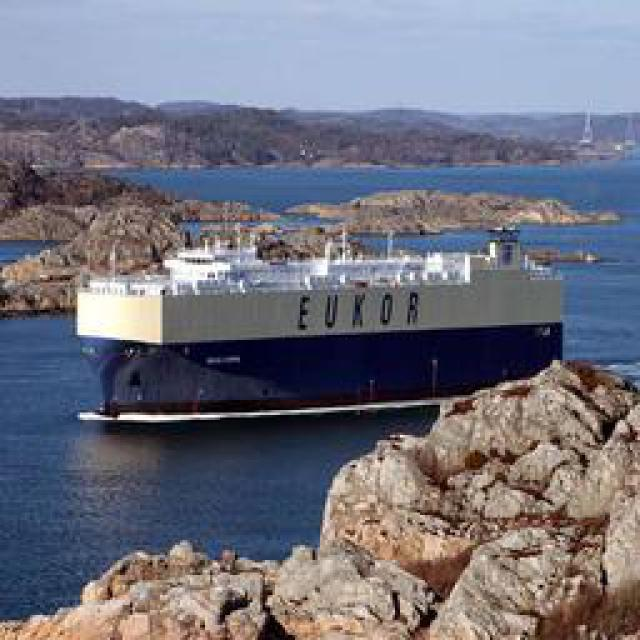Ship: (70, 225, 593, 425)
